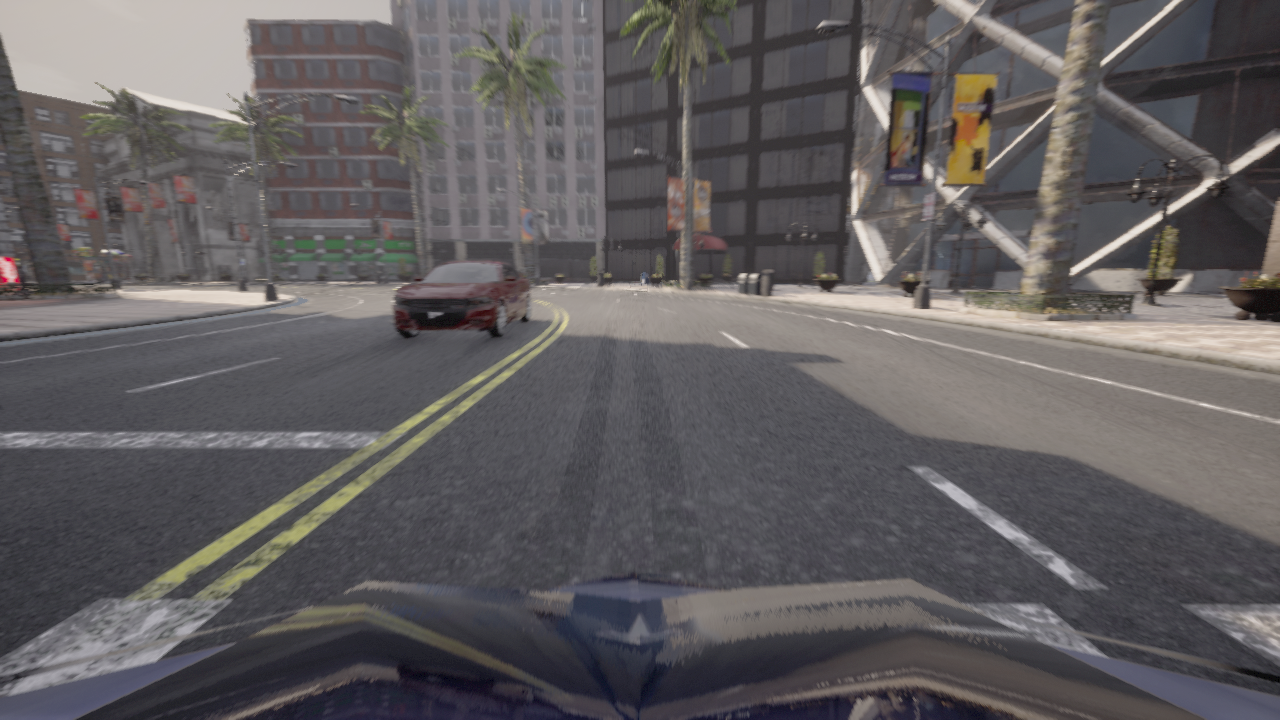cyclist: (0, 569, 1279, 719), (393, 259, 531, 338)
